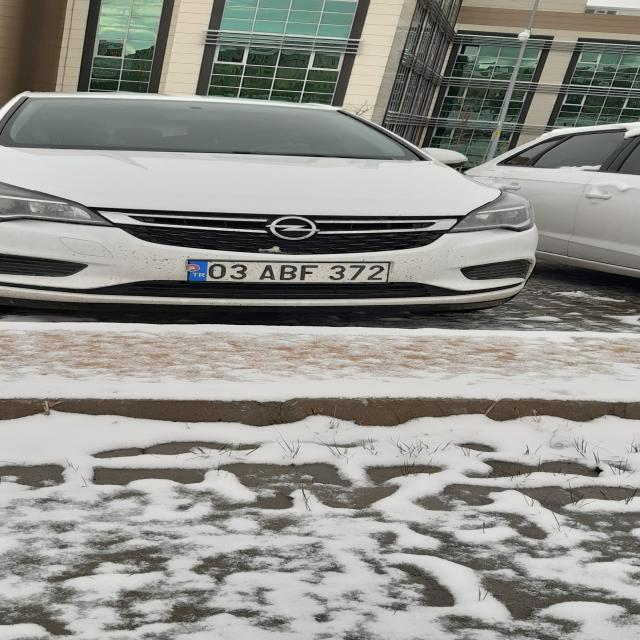plate: (186, 260, 390, 283)
